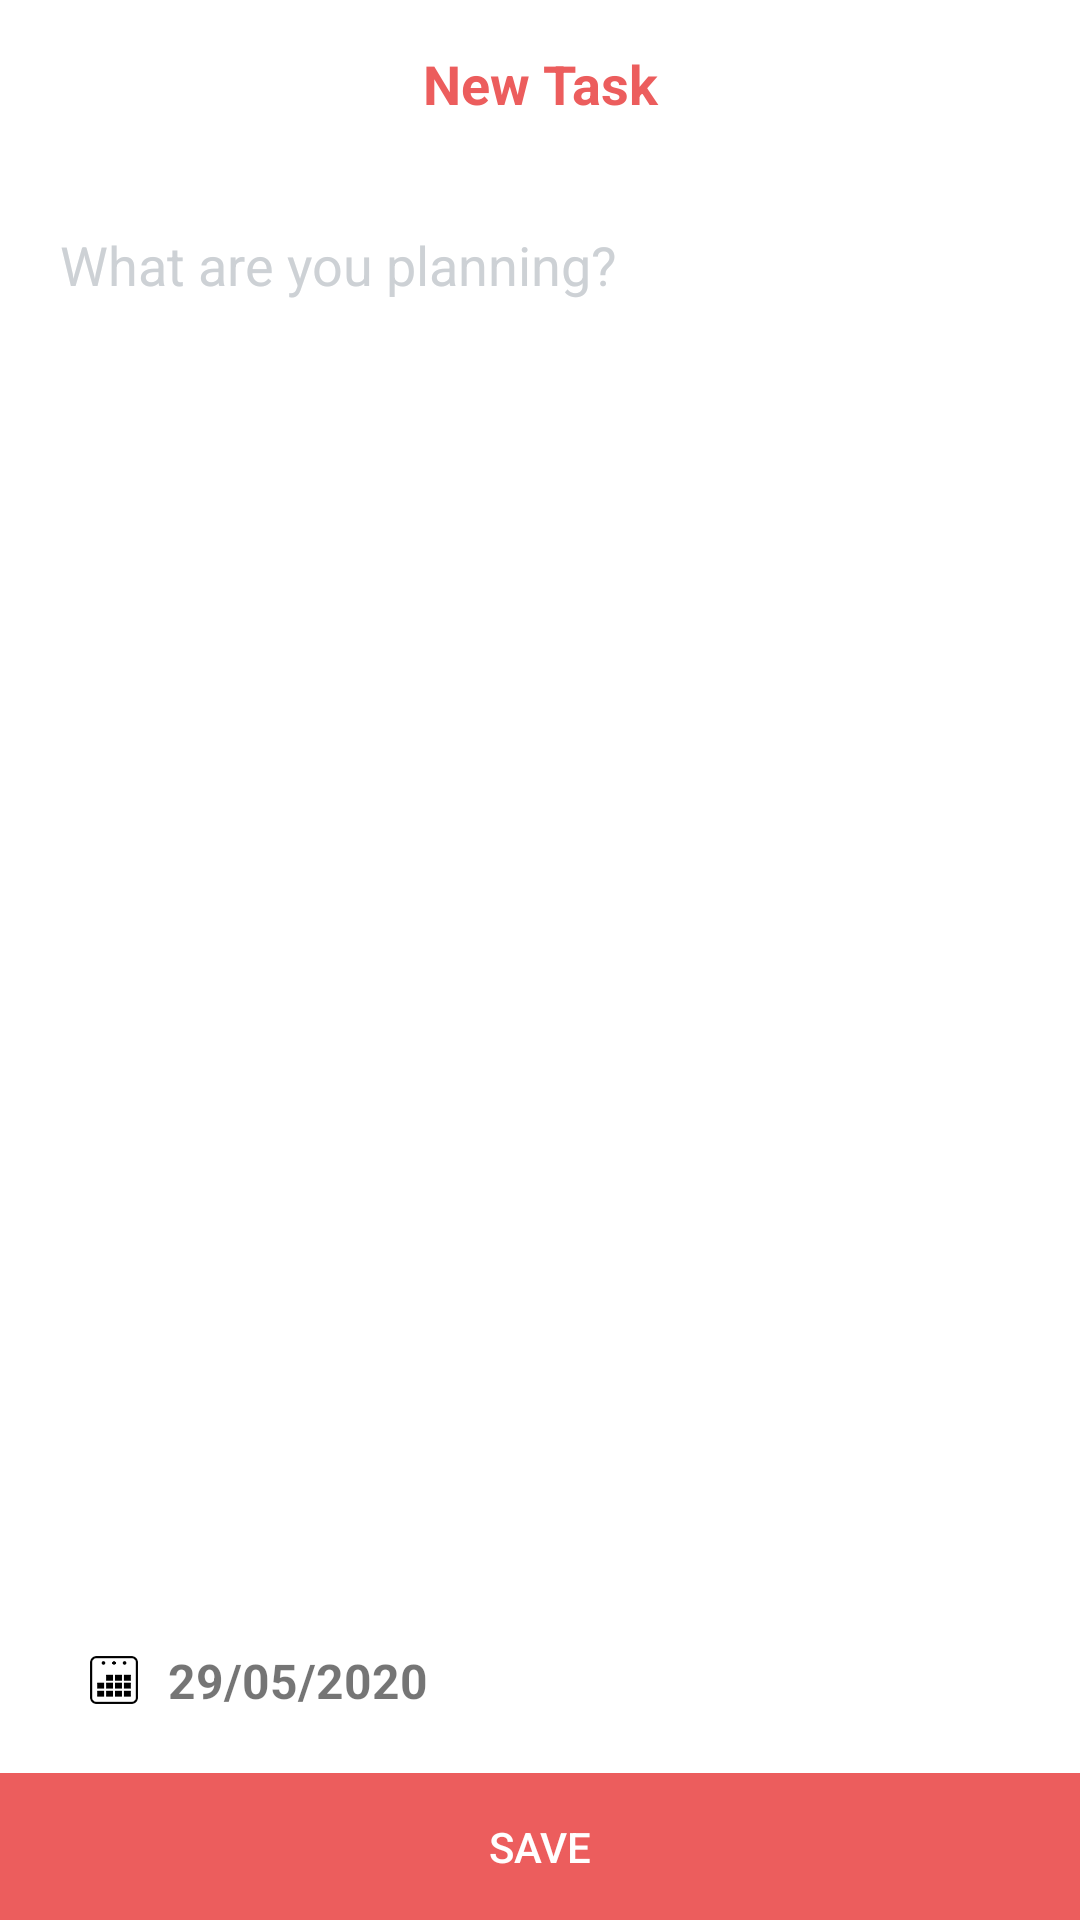

Screen size 1080 × 1920. Icon name, then its box in pixels as detection(x1, y1, x2, y2):
cal: detection(90, 1656, 138, 1704)
